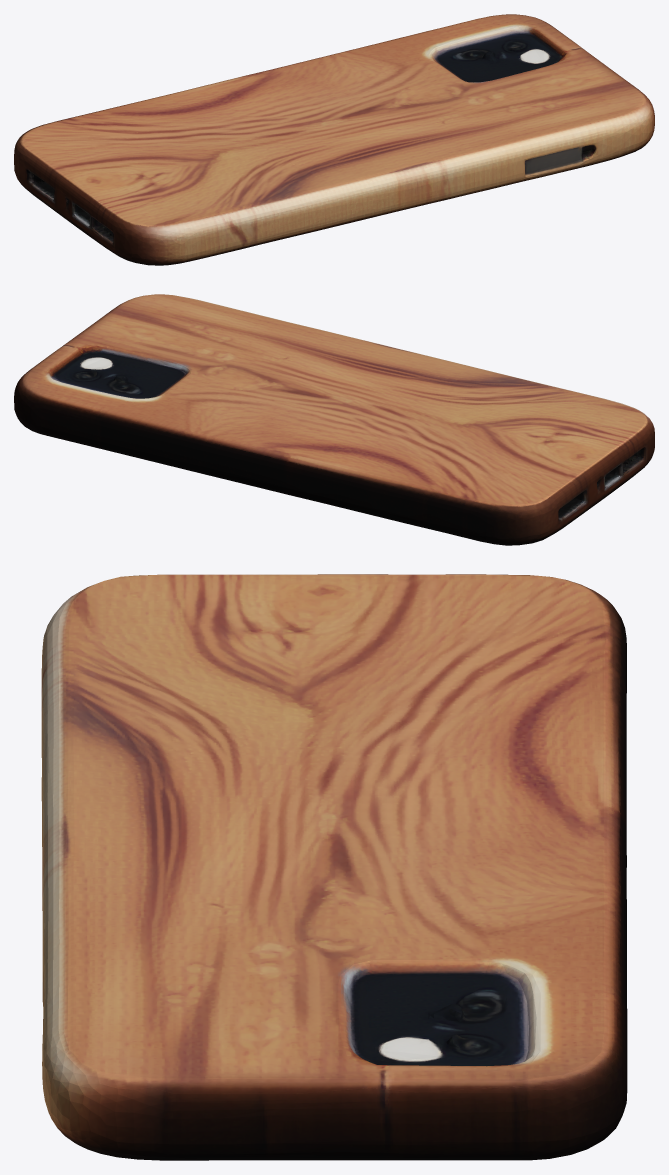
File: wooden-phone-case-3d.jpeg.glb
3 views of the same model, one above another, from view 1: azimuth 30°, elevation 25°; view 2: azimuth 150°, elevation 25°; view 3: azimuth 270°, elevation 25° (orthographic). The views are drawn at different scales.
Visible parts, largest first — view 1: world; view 2: world; view 3: world.
Part boxes in pixels (box(x1,y1,x2,y2)): world: box(14, 14, 654, 265); world: box(14, 294, 654, 545); world: box(41, 574, 627, 1160).
Size of the model in its own units: 1 by 0.075 by 0.4763.
1 material, 1 textured.
